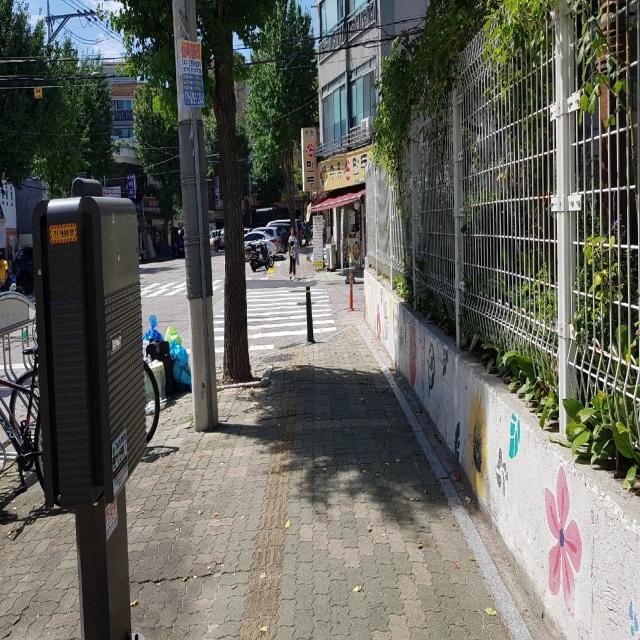횡단보도: (185, 286, 338, 356)
